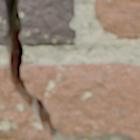brick: (94, 0, 139, 39)
broken_brick: (22, 62, 139, 138), (0, 64, 52, 139), (19, 0, 75, 45), (0, 0, 7, 44)
crack: (2, 0, 139, 139), (66, 19, 71, 25)
